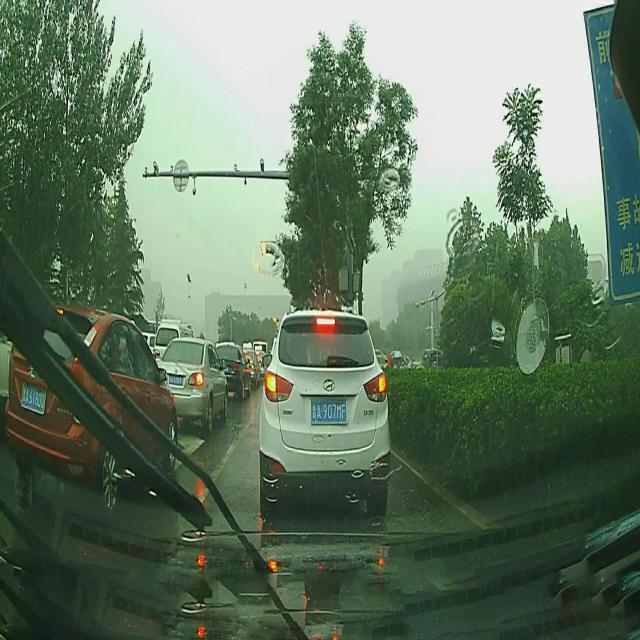car: (4, 302, 178, 512), (258, 309, 390, 521), (158, 333, 228, 433), (214, 342, 252, 402), (154, 322, 192, 364)
